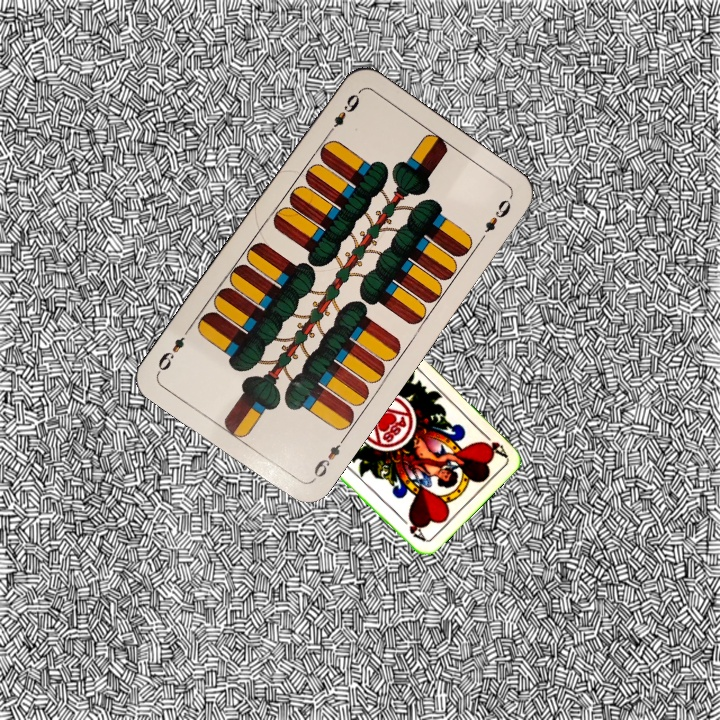E9: (322, 88, 363, 139), (308, 433, 348, 484)
HA: (476, 426, 509, 459)
